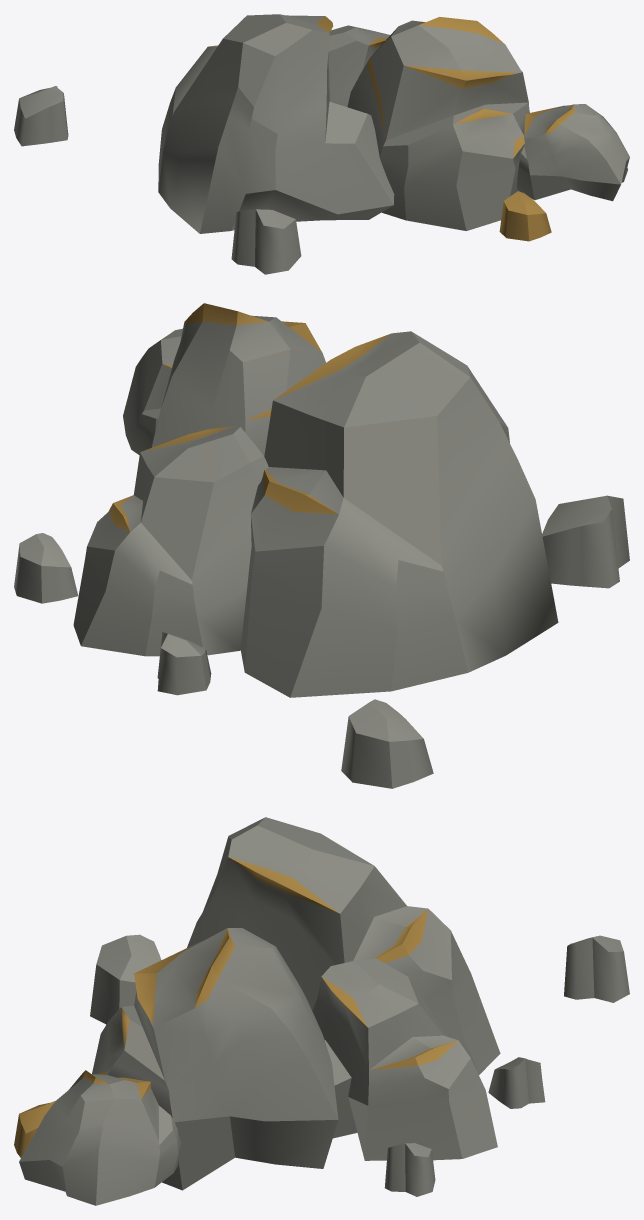
The model's file is medium.glb.
The picture shows the model from 3 angles, top to bottom: view 1: azimuth 30°, elevation 25°; view 2: azimuth 150°, elevation 25°; view 3: azimuth 270°, elevation 25°; orthographic projection. The views are drawn at different scales.
Parts seen in each view (by area): view 1: Resource_Gold_2; view 2: Resource_Gold_2; view 3: Resource_Gold_2.
Boxes of the visible parts, bbox=[...] form: Resource_Gold_2: bbox=[14, 14, 629, 274]; Resource_Gold_2: bbox=[14, 303, 629, 788]; Resource_Gold_2: bbox=[14, 817, 629, 1205].
Size of the model in its own units: 0.6982 by 0.3006 by 0.7151.
